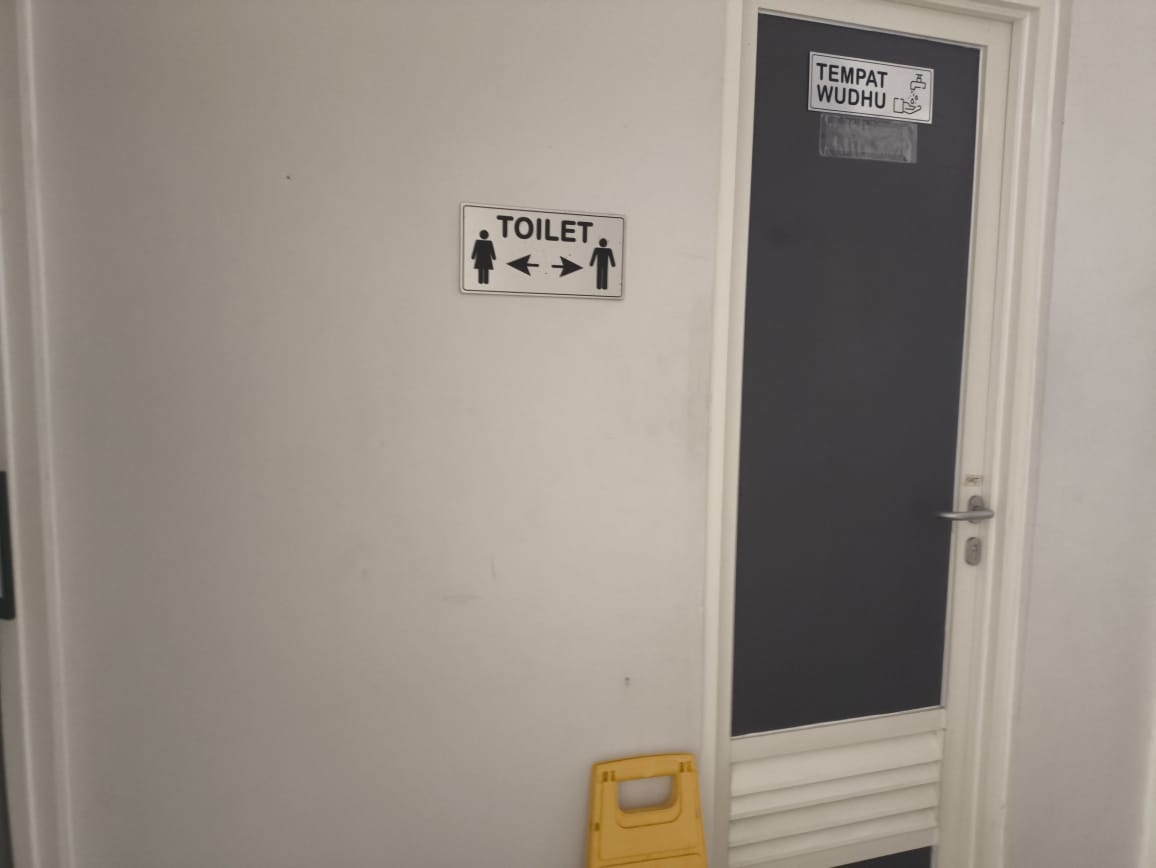tempat wudhu: (798, 42, 941, 131)
toilet: (449, 192, 634, 315)
